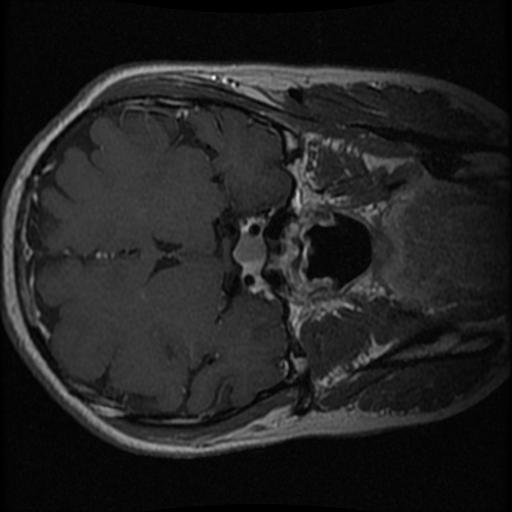pituitary tumour: (231, 235, 265, 265)
